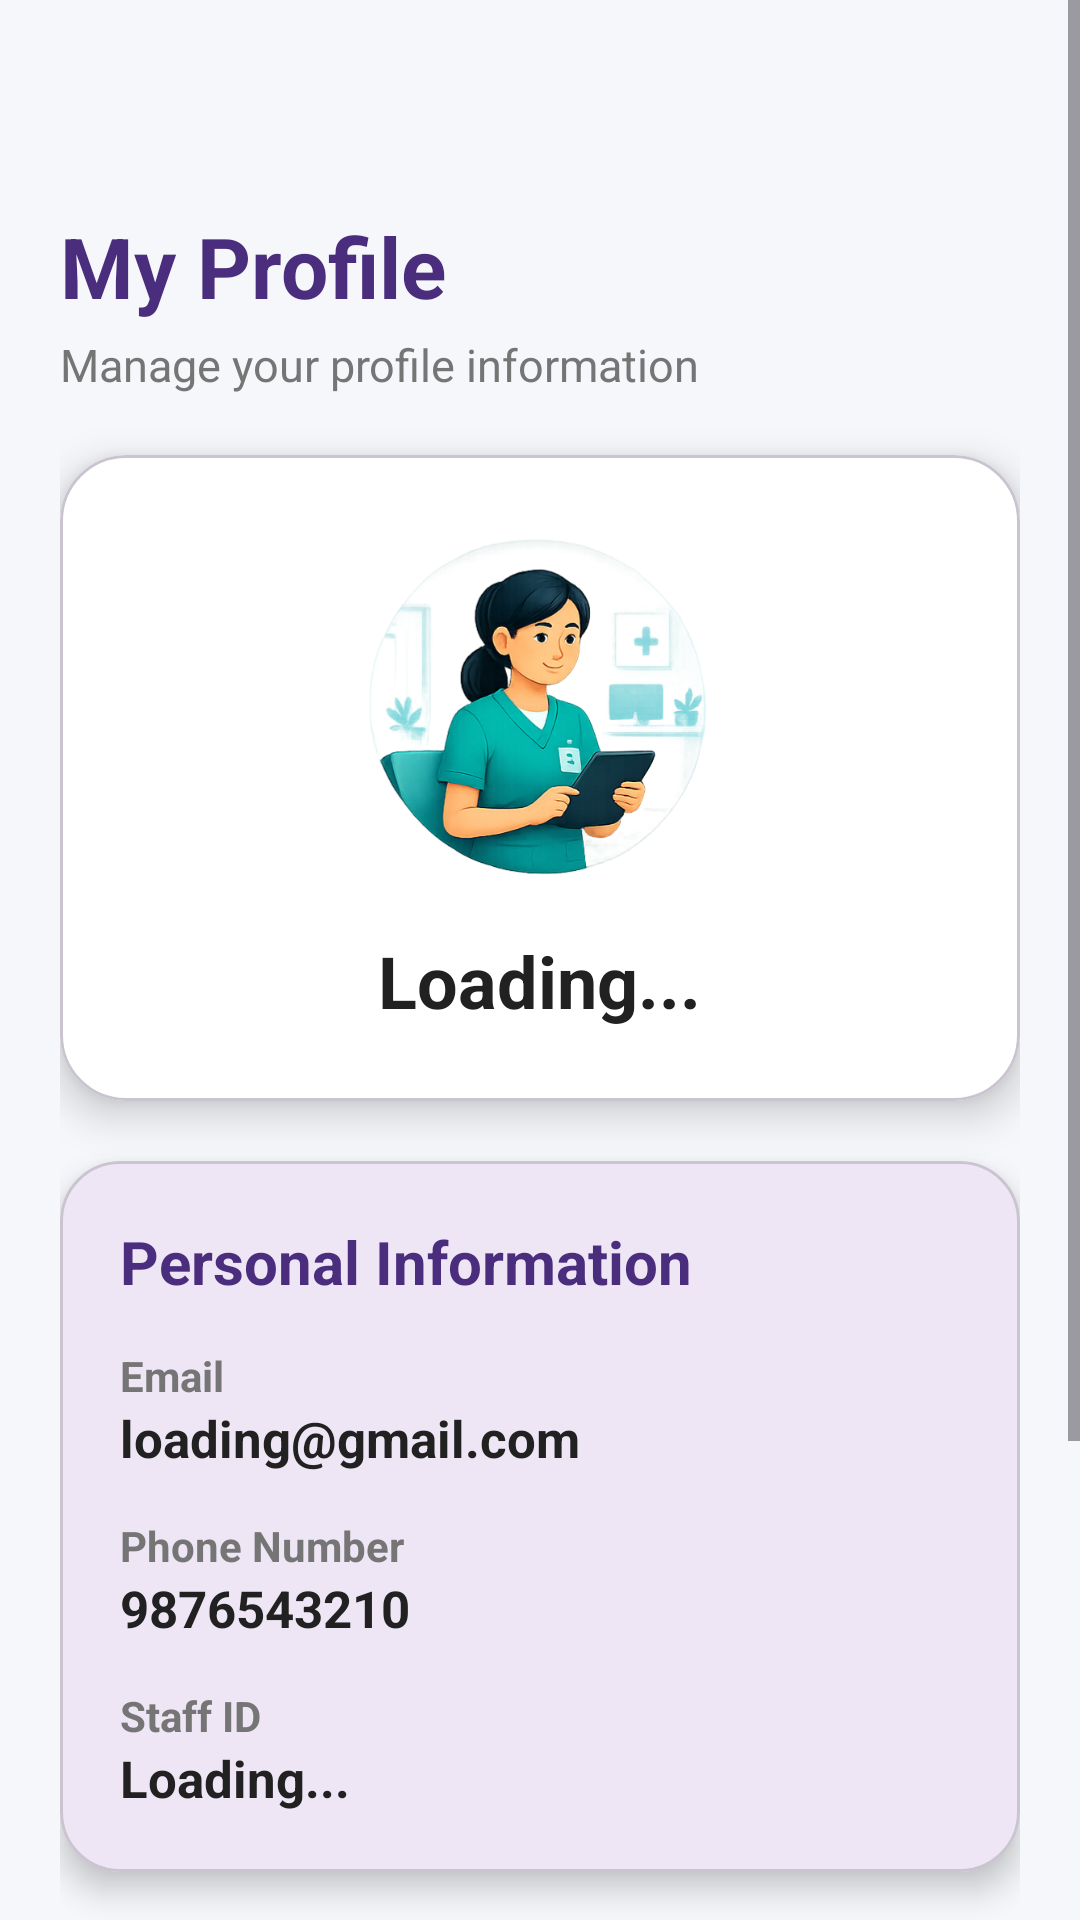

Icons on this 1080px×1920px Android screen, each with its box as [x1,y1,x2,y2]:
stafficon: [372,543,705,874]
